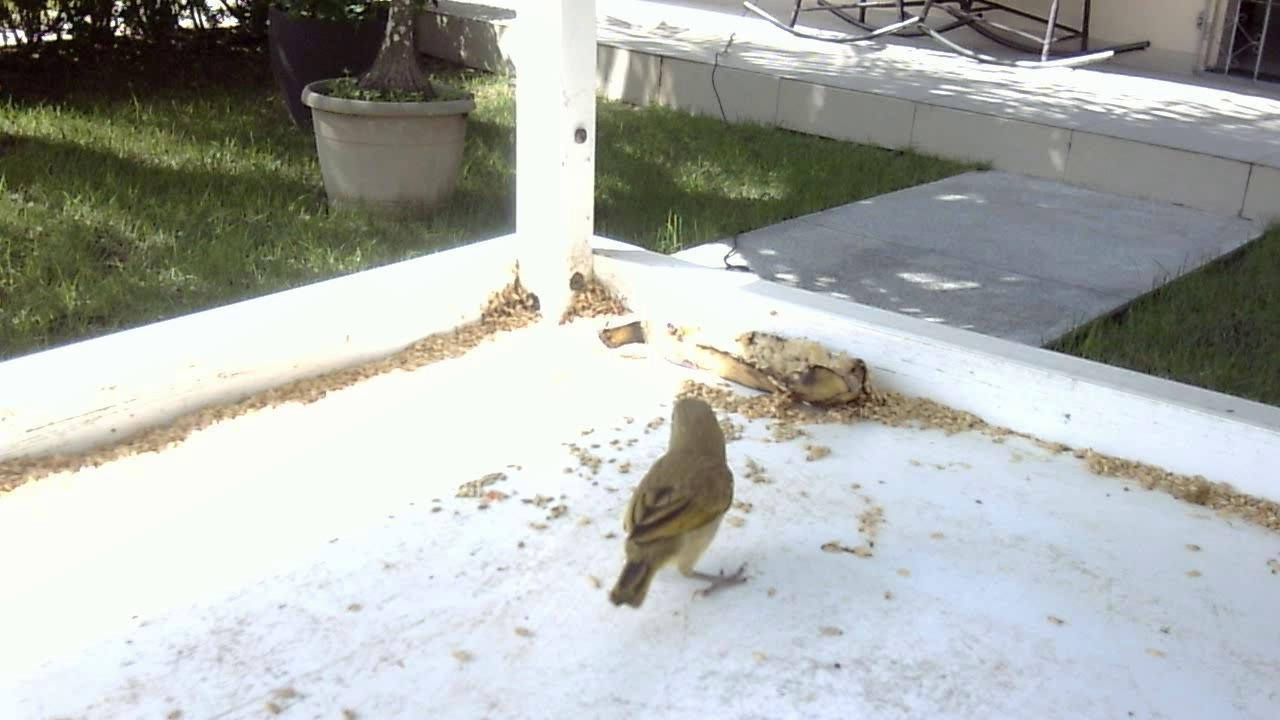canario_do_amazonas: (599, 390, 751, 616)
